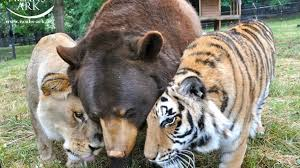lion: (18, 30, 104, 168)
tiger: (141, 17, 278, 168)
